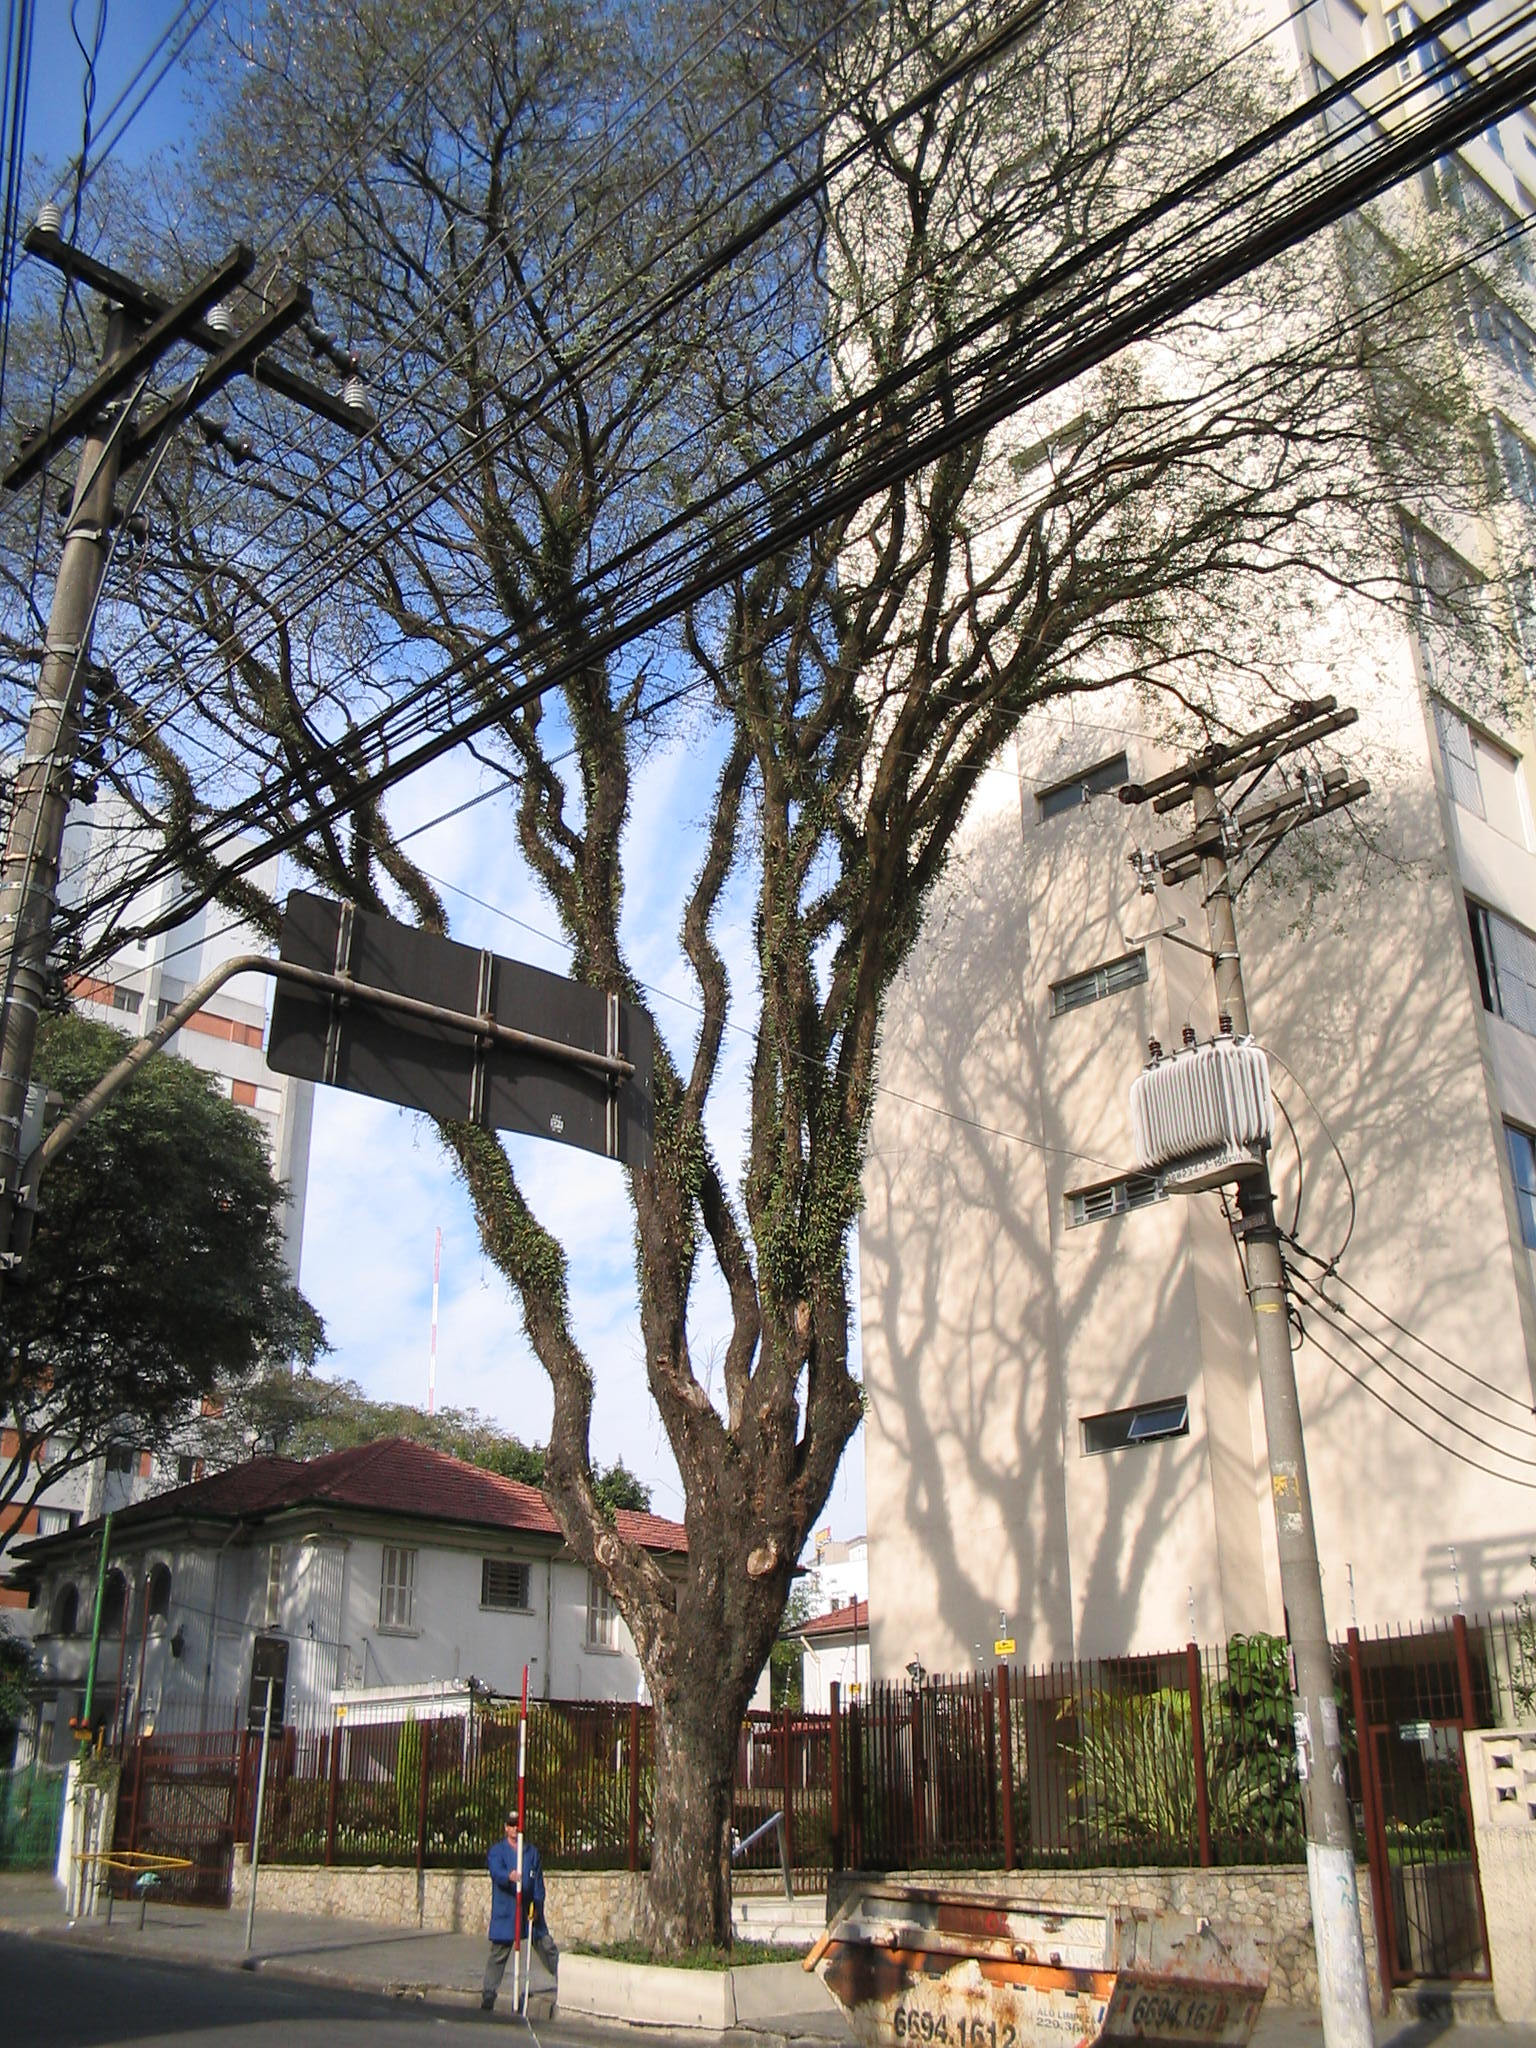stem: (595, 1684, 787, 1958)
stick: (503, 1663, 553, 2016)
tree: (11, 3, 1536, 1956)
